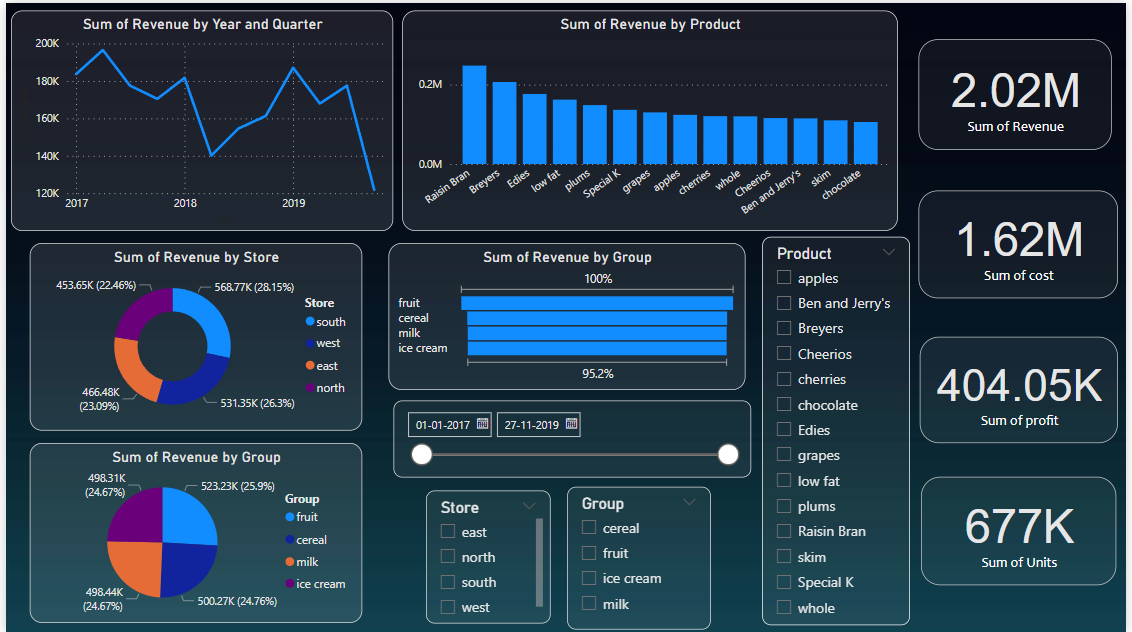

What the dashboard file says about the page in this screenshot:
{"tool":"powerbi","page":{"name":"Page 1","canvas":[1280,720],"ordinal":0},"visuals":[{"type":"card","fields":{"Values":["Sum(Grocery.Revenue)"]},"box":[1043.2,41,220.7,126.6],"z":0},{"type":"lineChart","fields":{"Y":["Sum(Grocery.Revenue)"],"Category":["Grocery.month_year.Variation.Date Hierarchy.Year","Grocery.month_year.Variation.Date Hierarchy.Quarter","Grocery.month_year.Variation.Date Hierarchy.Month","Grocery.month_year.Variation.Date Hierarchy.Day"]},"box":[6,8.4,436.6,252.1],"z":1000},{"type":"donutChart","fields":{"Category":["Grocery.Store"],"Y":["Sum(Grocery.Revenue)"]},"box":[27.7,273.8,379.9,214.7],"z":2000},{"type":"pieChart","fields":{"Y":["Sum(Grocery.Revenue)"],"Category":["Grocery.Group"]},"box":[27.4,503.2,379.8,205.7],"z":3000},{"type":"card","fields":{"Values":["Sum(Grocery.cost)"]},"box":[1043.2,214.7,227.9,123],"z":4000},{"type":"card","fields":{"Values":["Sum(Grocery.Units)"]},"box":[1045.6,541.5,223.1,124.2],"z":5000},{"type":"card","fields":{"Values":["Sum(Grocery.profit)"]},"box":[1044.4,381.1,226.7,121.8],"z":6000},{"type":"clusteredColumnChart","fields":{"Y":["Sum(Grocery.Revenue)"],"Category":["Grocery.Product"]},"box":[452.4,8.2,566.2,252.3],"z":7000},{"type":"slicer","fields":{"Values":["Grocery.month_year"]},"box":[442.6,454.7,408.8,88],"z":8000},{"type":"slicer","fields":{"Values":["Grocery.Product"]},"box":[864.7,266.5,168.8,443.8],"z":9000},{"type":"slicer","fields":{"Values":["Grocery.Group"]},"box":[641.6,552.4,164,162.8],"z":10000},{"type":"slicer","fields":{"Values":["Grocery.Store"]},"box":[480,557.2,142.3,152],"z":11000},{"type":"funnel","fields":{"Category":["Grocery.Group"],"Y":["Sum(Grocery.Revenue)"]},"box":[437.8,275,407.6,167.6],"z":12000}]}

Visuals, with their boxes in screenshot pixels (x1, y1, x2, y2), scaled from the page's 1280x720 canvas onto the 1132x632 screenshot:
card - Sum(Grocery.Revenue): l=923, t=36, r=1118, b=147
lineChart - Sum(Grocery.Revenue) x Grocery.month_year.Variation.Date Hierarchy.Year: l=5, t=7, r=391, b=229
donutChart - Grocery.Store x Sum(Grocery.Revenue): l=24, t=240, r=360, b=429
pieChart - Sum(Grocery.Revenue) x Grocery.Group: l=24, t=442, r=360, b=622
card - Sum(Grocery.cost): l=923, t=188, r=1124, b=296
card - Sum(Grocery.Units): l=925, t=475, r=1122, b=584
card - Sum(Grocery.profit): l=924, t=335, r=1124, b=441
clusteredColumnChart - Sum(Grocery.Revenue) x Grocery.Product: l=400, t=7, r=901, b=229
slicer - Grocery.month_year: l=391, t=399, r=753, b=476
slicer - Grocery.Product: l=765, t=234, r=914, b=623
slicer - Grocery.Group: l=567, t=485, r=712, b=628
slicer - Grocery.Store: l=424, t=489, r=550, b=623
funnel - Grocery.Group x Sum(Grocery.Revenue): l=387, t=241, r=748, b=389
